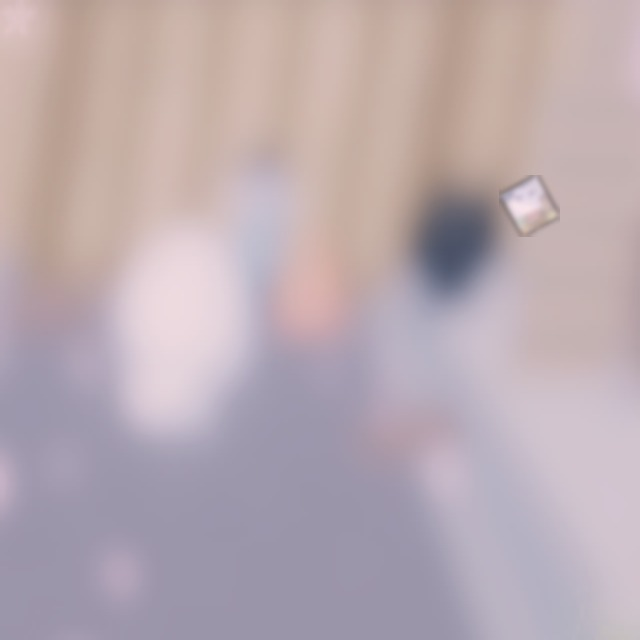urso_branco: (499, 175, 560, 237)
